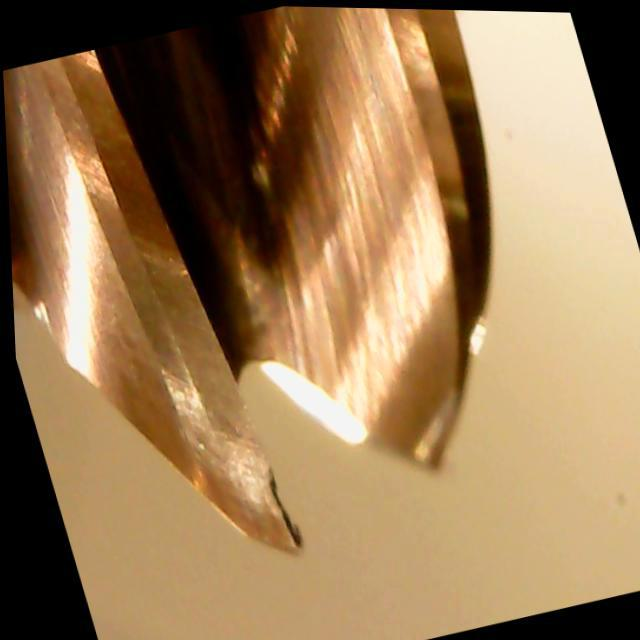Tool-wear-class-1: (159, 348, 320, 579)
